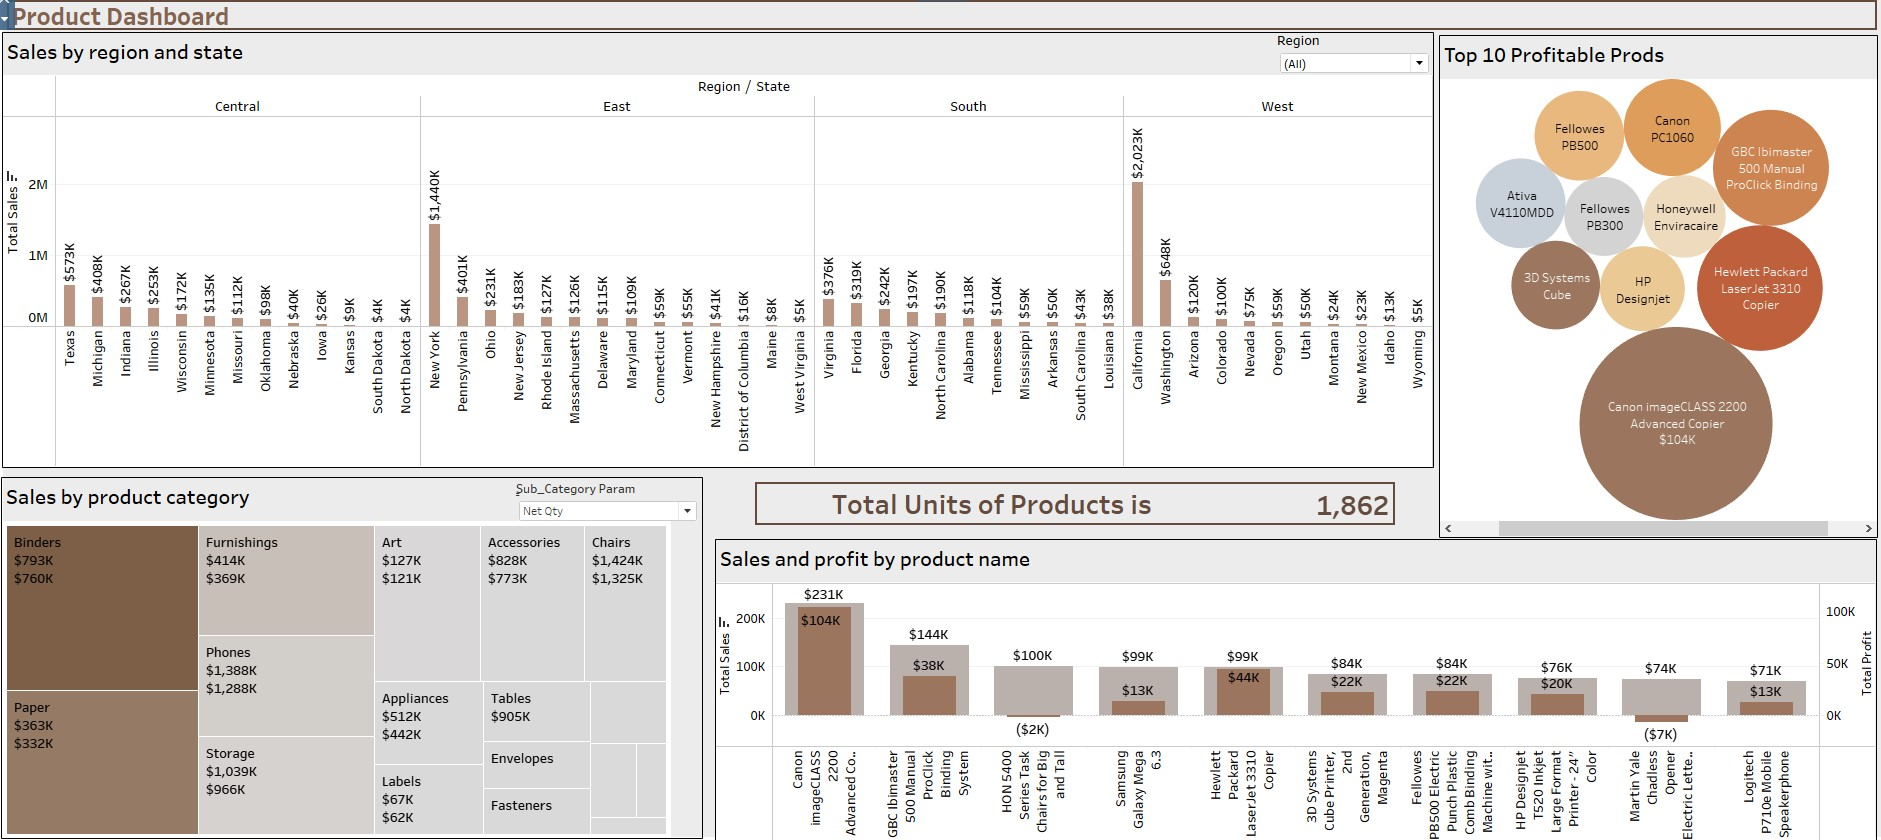

This screenshot's page, from the dashboard's own definition file:
{"tool":"tableau","page":{"name":"Product Dashboard","canvas":[1000,1000],"units":"permille","ordinal":0},"visuals":[{"type":"title","box":[4.2,9.3,991.6,44]},{"type":"filter","title":"Sales by region and state","param":"[federated.1vtrnrs0e3vjdm107wfnd1ps555z].[none:Region:nk]","box":[677,49.8,81.9,56.7]},{"type":"worksheet","title":"Sales by region and state","mark":"Automatic","rows":["Calculation_747034606181748736"],"cols":["Region","State"],"box":[3.7,50.9,756.1,509.3]},{"type":"worksheet","title":"Top 10 Profitable Prods","mark":"Circle","box":[762.4,54.4,231.7,586.8]},{"type":"worksheet","title":"Sales by product category","mark":"Automatic","box":[3.2,570.6,370.6,422.4]},{"type":"parameter","param":"[Parameters].[Parameter 1]","box":[275.1,574.1,97.2,50.9]},{"type":"worksheet","title":"Count of Products","mark":"Text","box":[401.3,576.4,337.9,49.8]},{"type":"text","box":[440.3,579.9,190.6,41.7]},{"type":"worksheet","title":"Sales and profit by product name","mark":"Bar","rows":["Calculation_747034606181748736","Calculation_747034606183997442"],"cols":["Product Name"],"box":[380.2,642.4,613.5,355.3]}]}

Visuals, with their boxes on the dashboard's canvas, which has no fixed pixel size, in thousandths of its width and height (x1, y1, x2, y2). These are canvas units, not pixel positions in the 1881x840 screenshot, which may show the page scaled, cropped or inside an application window:
title: select_region(4, 9, 996, 53)
"Sales by region and state" filter: select_region(677, 50, 759, 106)
"Sales by region and state" worksheet: select_region(4, 51, 760, 560)
"Top 10 Profitable Prods" worksheet (Circle marks): select_region(762, 54, 994, 641)
"Sales by product category" worksheet: select_region(3, 571, 374, 993)
parameter: select_region(275, 574, 372, 625)
"Count of Products" worksheet (Text marks): select_region(401, 576, 739, 626)
text: select_region(440, 580, 631, 622)
"Sales and profit by product name" worksheet (Bar marks): select_region(380, 642, 994, 998)
